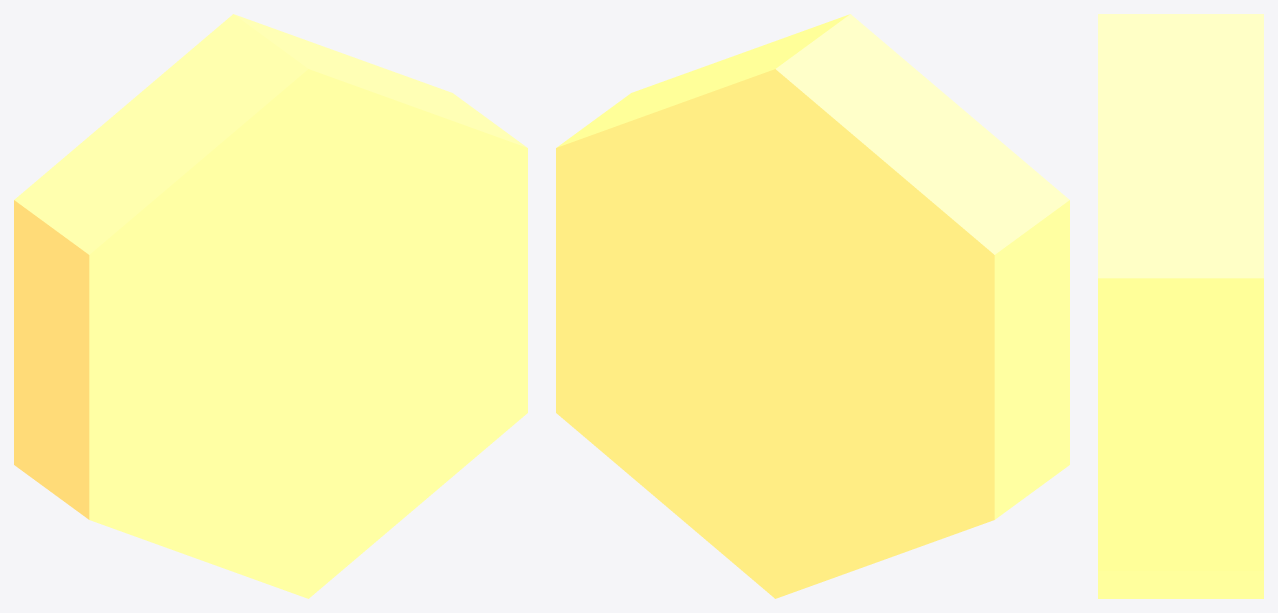
The model's file is comb-cell-capped.gltf.
3 renders of one model, left to right at view 1: azimuth 30°, elevation 25°; view 2: azimuth 150°, elevation 25°; view 3: azimuth 270°, elevation 25°, orthographic. The views are drawn at different scales.
Parts seen in each view (by area): view 1: Cell; view 2: Cell; view 3: Cell.
Part boxes in pixels (x1,y1,x2,y2): Cell: [14, 14, 527, 598]; Cell: [556, 14, 1069, 598]; Cell: [1098, 14, 1263, 598].
Size of the model in its own units: 1.21 by 1.4 by 0.36.
